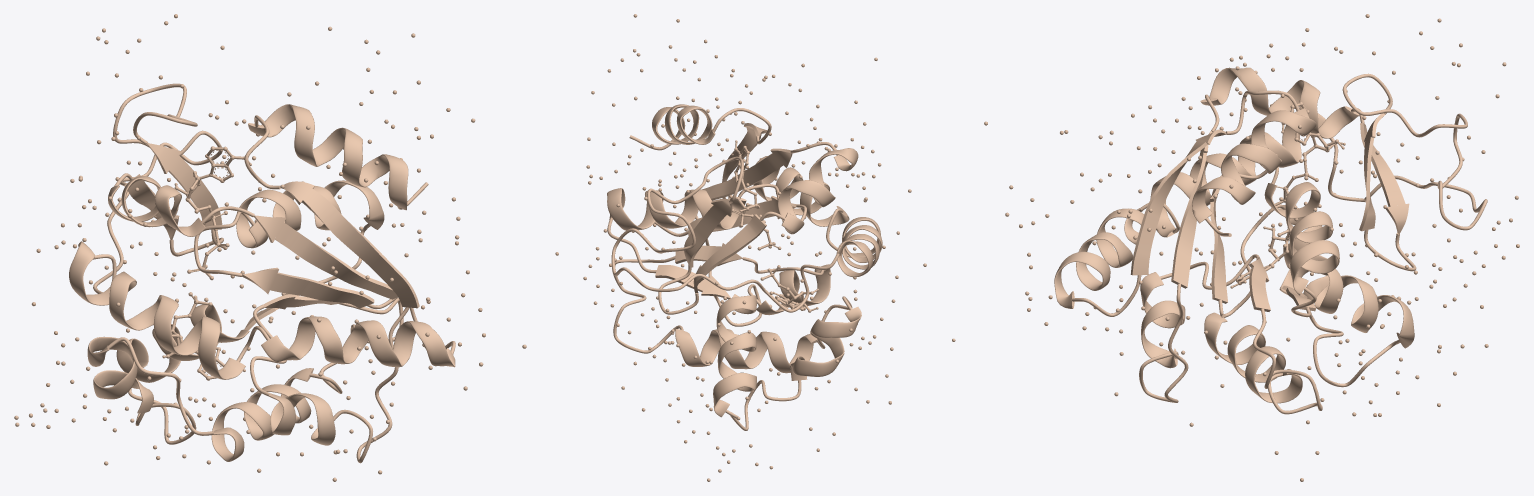
File: protein.glb
The picture shows the model from 3 angles, left to right: view 1: azimuth 30°, elevation 25°; view 2: azimuth 150°, elevation 25°; view 3: azimuth 270°, elevation 25°; orthographic projection. The views are drawn at different scales.
Visible parts, largest first — view 1: Protein geometry; view 2: Protein geometry; view 3: Protein geometry.
Boxes of the visible parts, x1,y1,x2,y2 form: Protein geometry: (14,14,526,481); Protein geometry: (555,14,955,481); Protein geometry: (984,14,1519,481).
Bounding box in the file's own units: 50.98 × 50.32 × 58.96.
